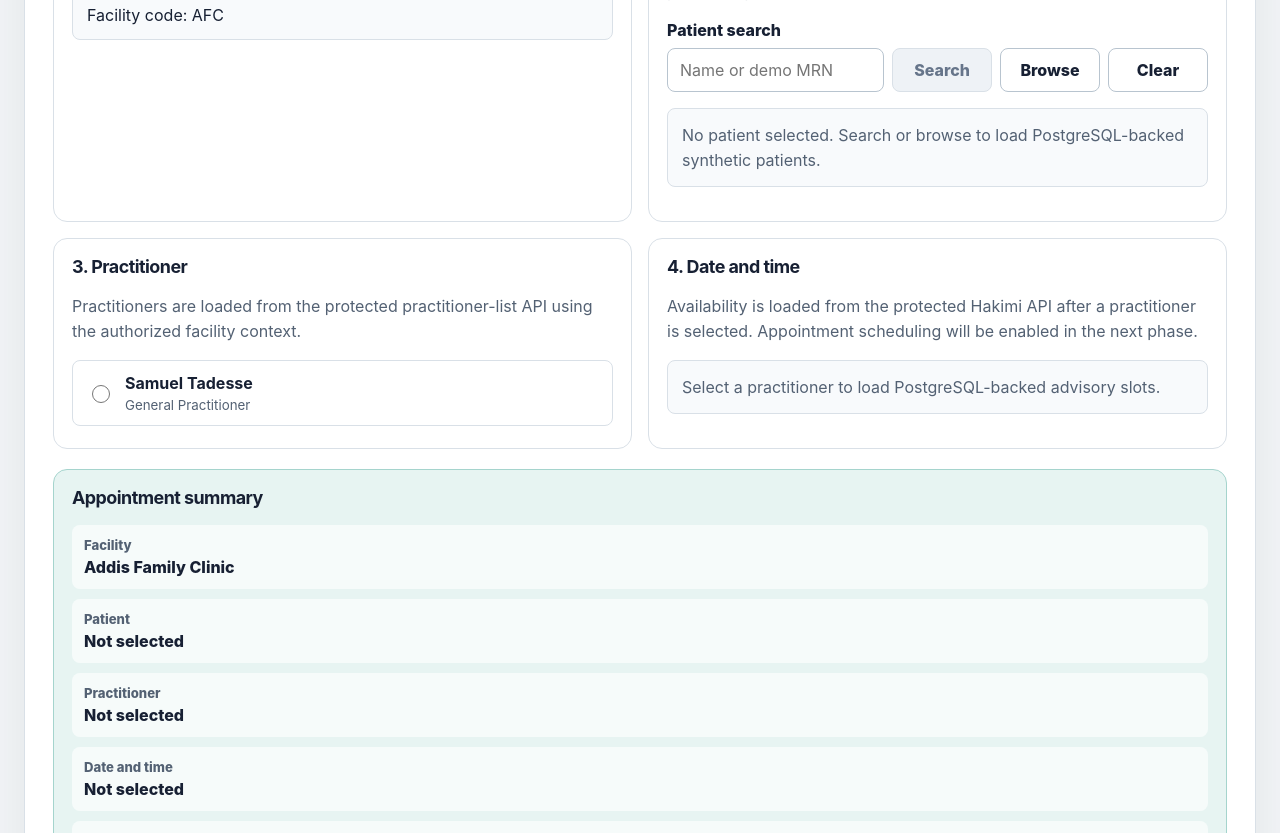
it: App workforce authentication shell › keeps repeated daylight-saving fall-back times distinct and does not invent spring-forward times
(page scrolled)
Click the radio button labelled "Samuel Tadesse General Practitioner": (101, 394) 92,385 -> 110,403
(page scrolled)
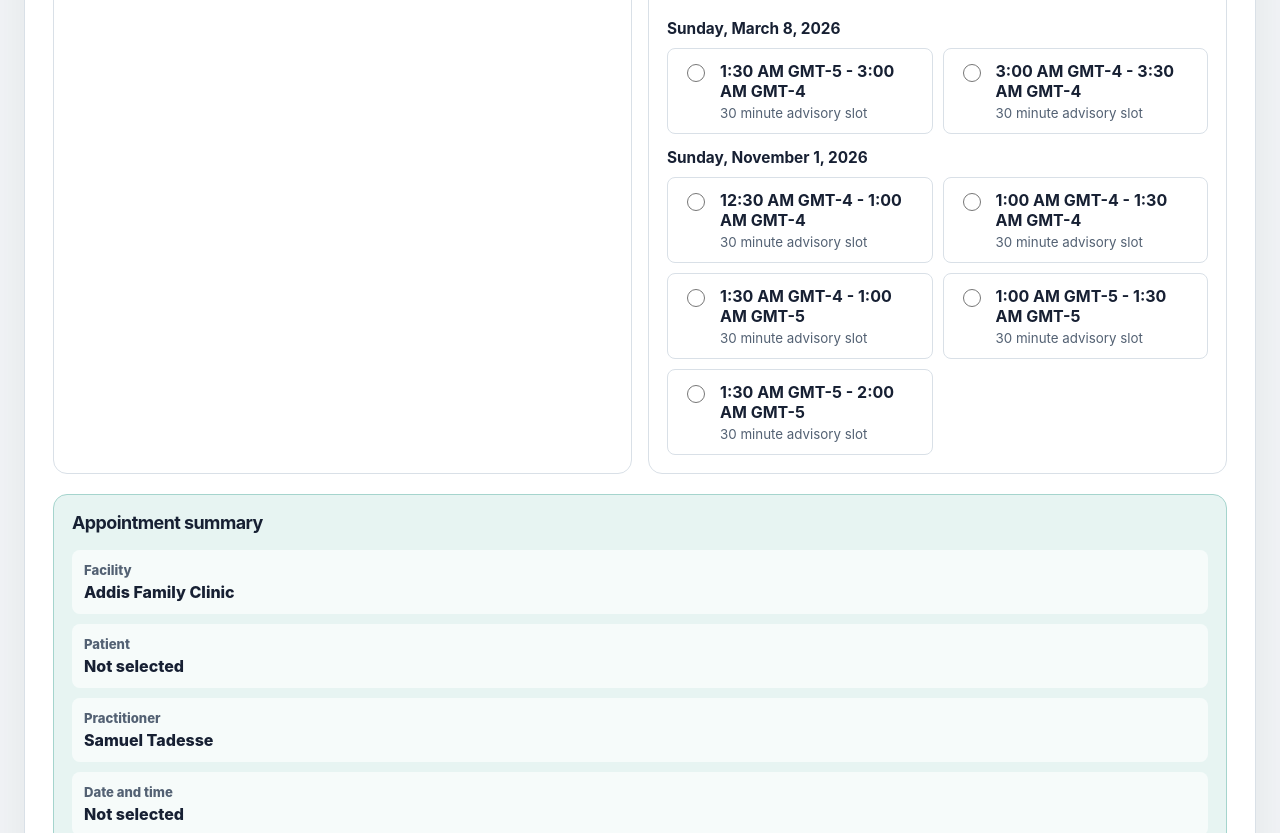
expect the radio button labelled "1:30 AM GMT-4 - 1:00 AM GMT-5 30 minute advisory slot" is shown: met, box 687,289 -> 705,307
expect the radio button labelled "1:30 AM GMT-5 - 2:00 AM GMT-5 30 minute advisory slot" is shown: met, box 687,385 -> 705,403
